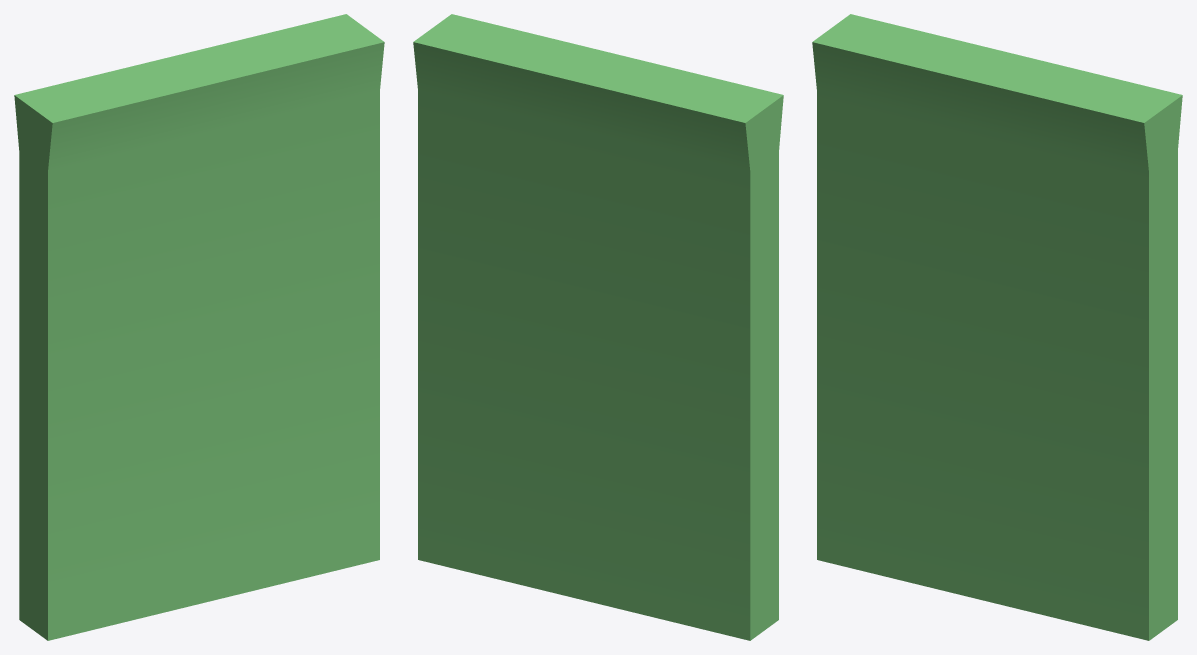
Rendered from Bld3_Wall_Int_Half_A.fbx.
3 views of the same model, side by side, from view 1: azimuth 30°, elevation 25°; view 2: azimuth 150°, elevation 25°; view 3: azimuth 330°, elevation 25° (orthographic).
Parts seen in each view (by area): view 1: Bld3_Wall_Int_Half_A; view 2: Bld3_Wall_Int_Half_A; view 3: Bld3_Wall_Int_Half_A.
Part boxes in pixels (x1,y1,x2,y2): Bld3_Wall_Int_Half_A: [14, 14, 384, 640]; Bld3_Wall_Int_Half_A: [413, 14, 783, 640]; Bld3_Wall_Int_Half_A: [812, 14, 1182, 640].
Bounding box in the file's own units: 300 × 450 × 60.
